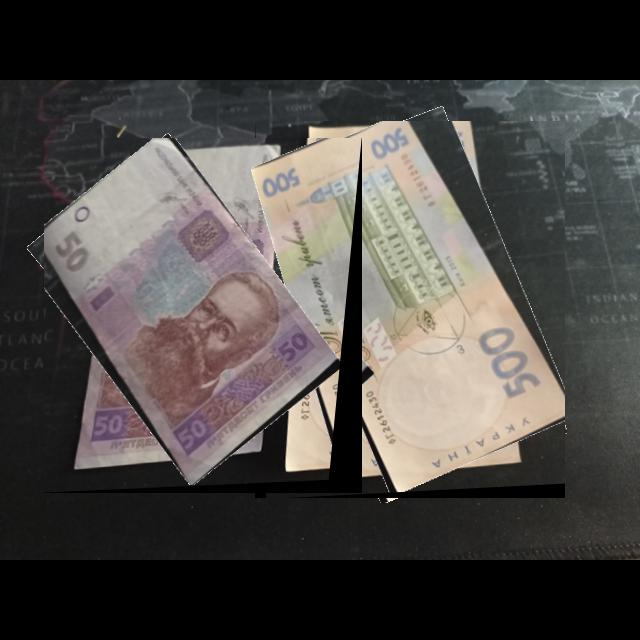500uah: (257, 121, 566, 495)
50uah: (44, 138, 346, 488)
